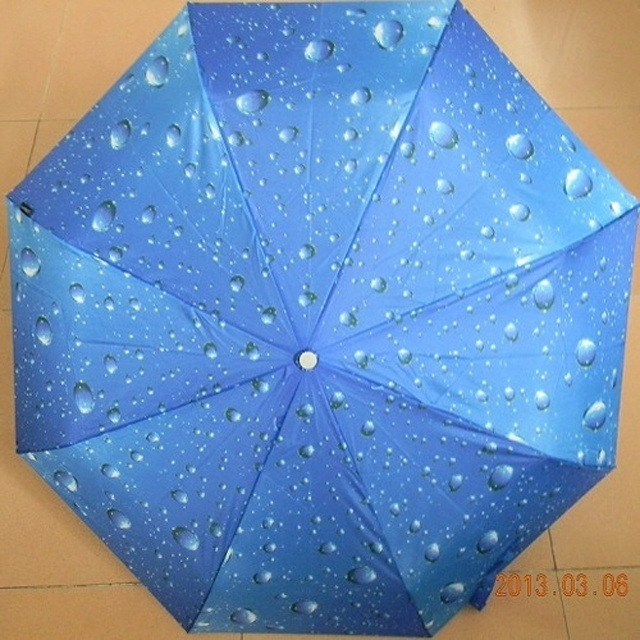umbrella: (4, 1, 640, 640)
